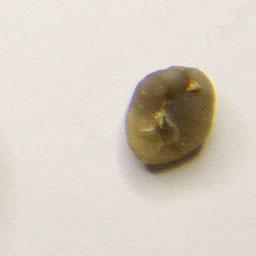premium: (121, 61, 218, 171)
